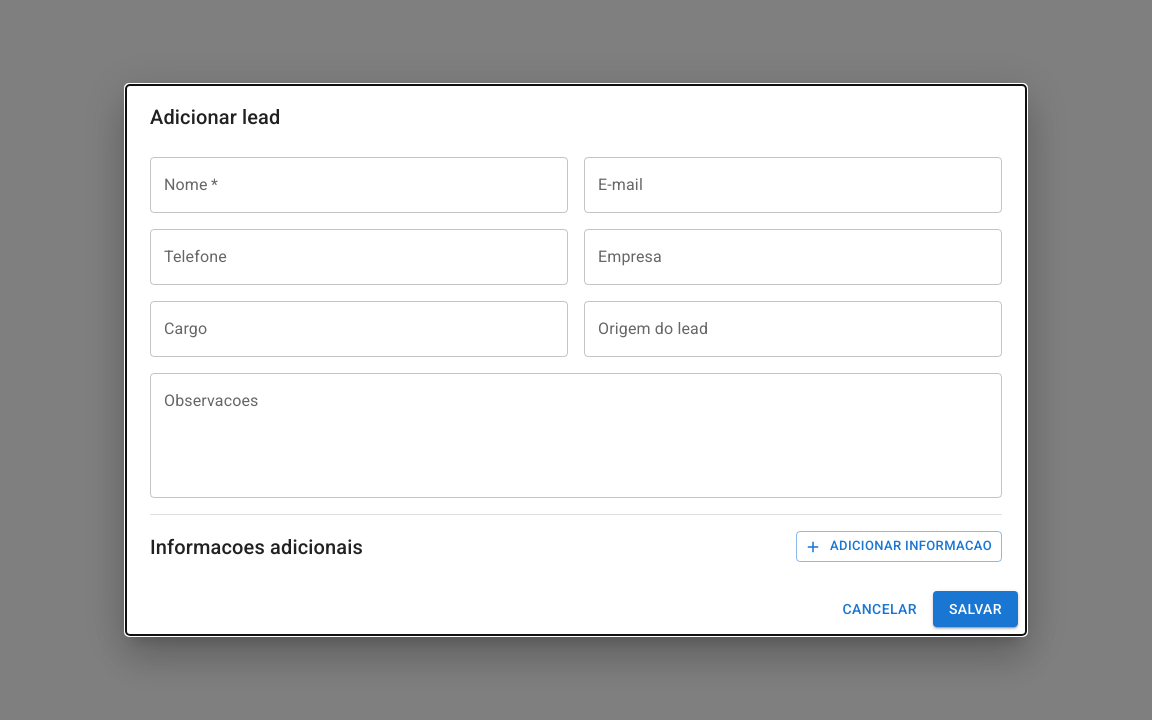
it: AddLeadDialog › validates configured required lead fields before submit
What coordinates should you click on to do the following:
click the button "Salvar"
I would click on:
 (975, 609)
Its box is [933,591,1018,627].
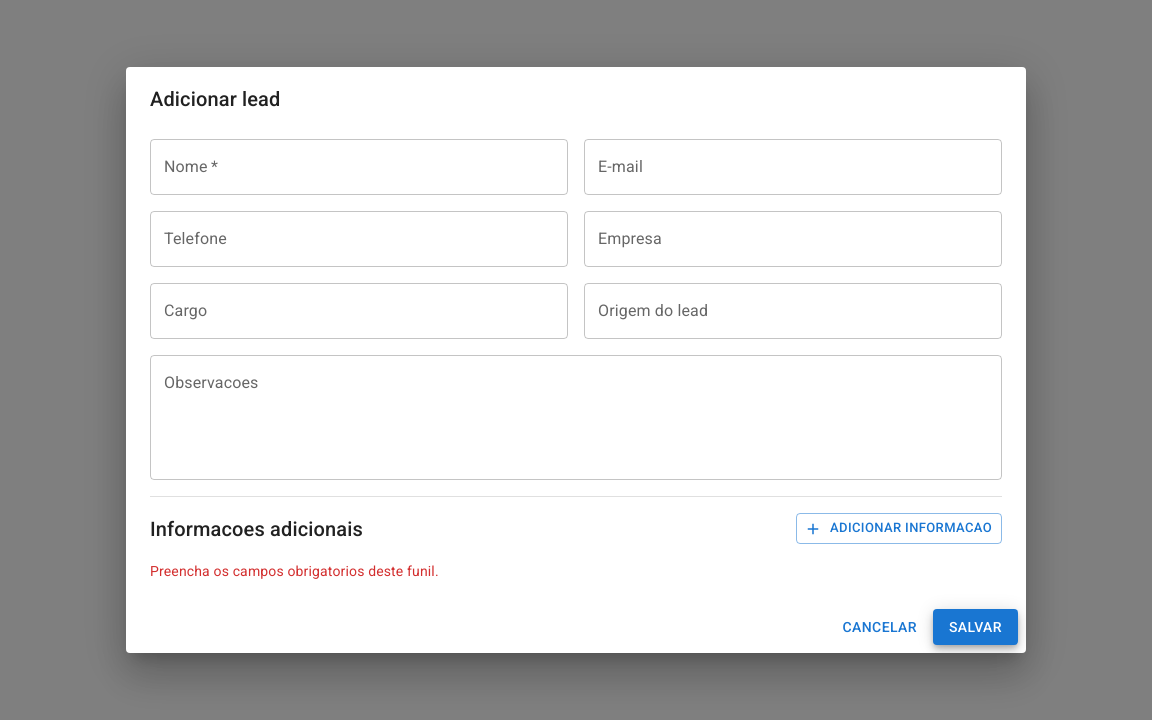
Expected: the text "Preencha os campos obrigatorios deste funil." is shown, [150,563,439,579]
